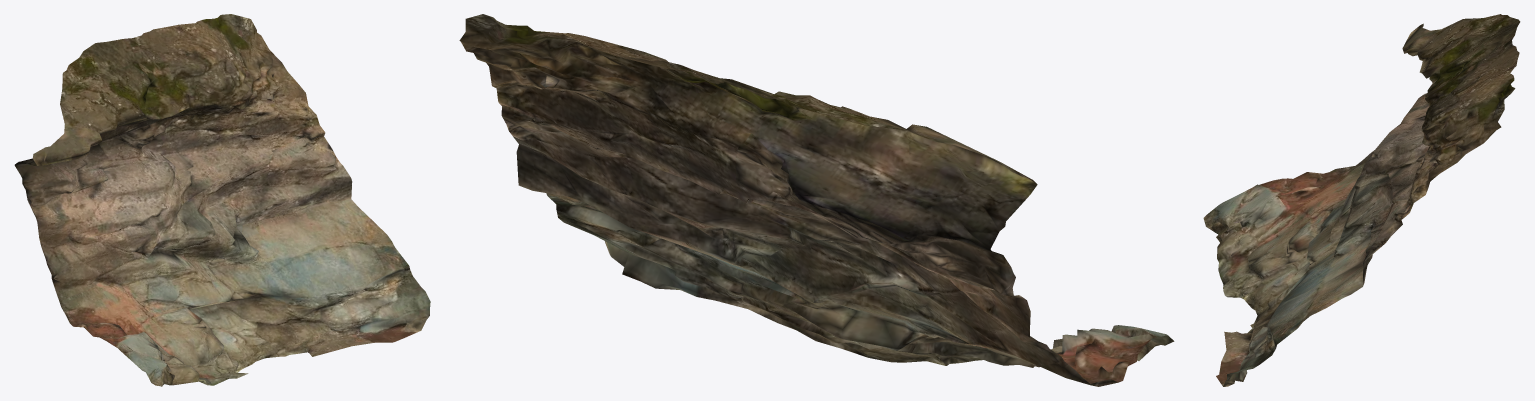
Rendered from rock_face_01.glb.
The picture shows the model from 3 angles, left to right: view 1: azimuth 30°, elevation 25°; view 2: azimuth 150°, elevation 25°; view 3: azimuth 270°, elevation 25°; orthographic projection. The views are drawn at different scales.
Parts seen in each view (by area): view 1: rock_face_01; view 2: rock_face_01; view 3: rock_face_01.
Boxes of the visible parts, x1,y1,x2,y2 form: rock_face_01: [14, 14, 430, 386]; rock_face_01: [459, 14, 1174, 386]; rock_face_01: [1203, 14, 1520, 386].
Size of the model in its own units: 4.95 by 3.56 by 3.82.
1 material, 1 textured.
